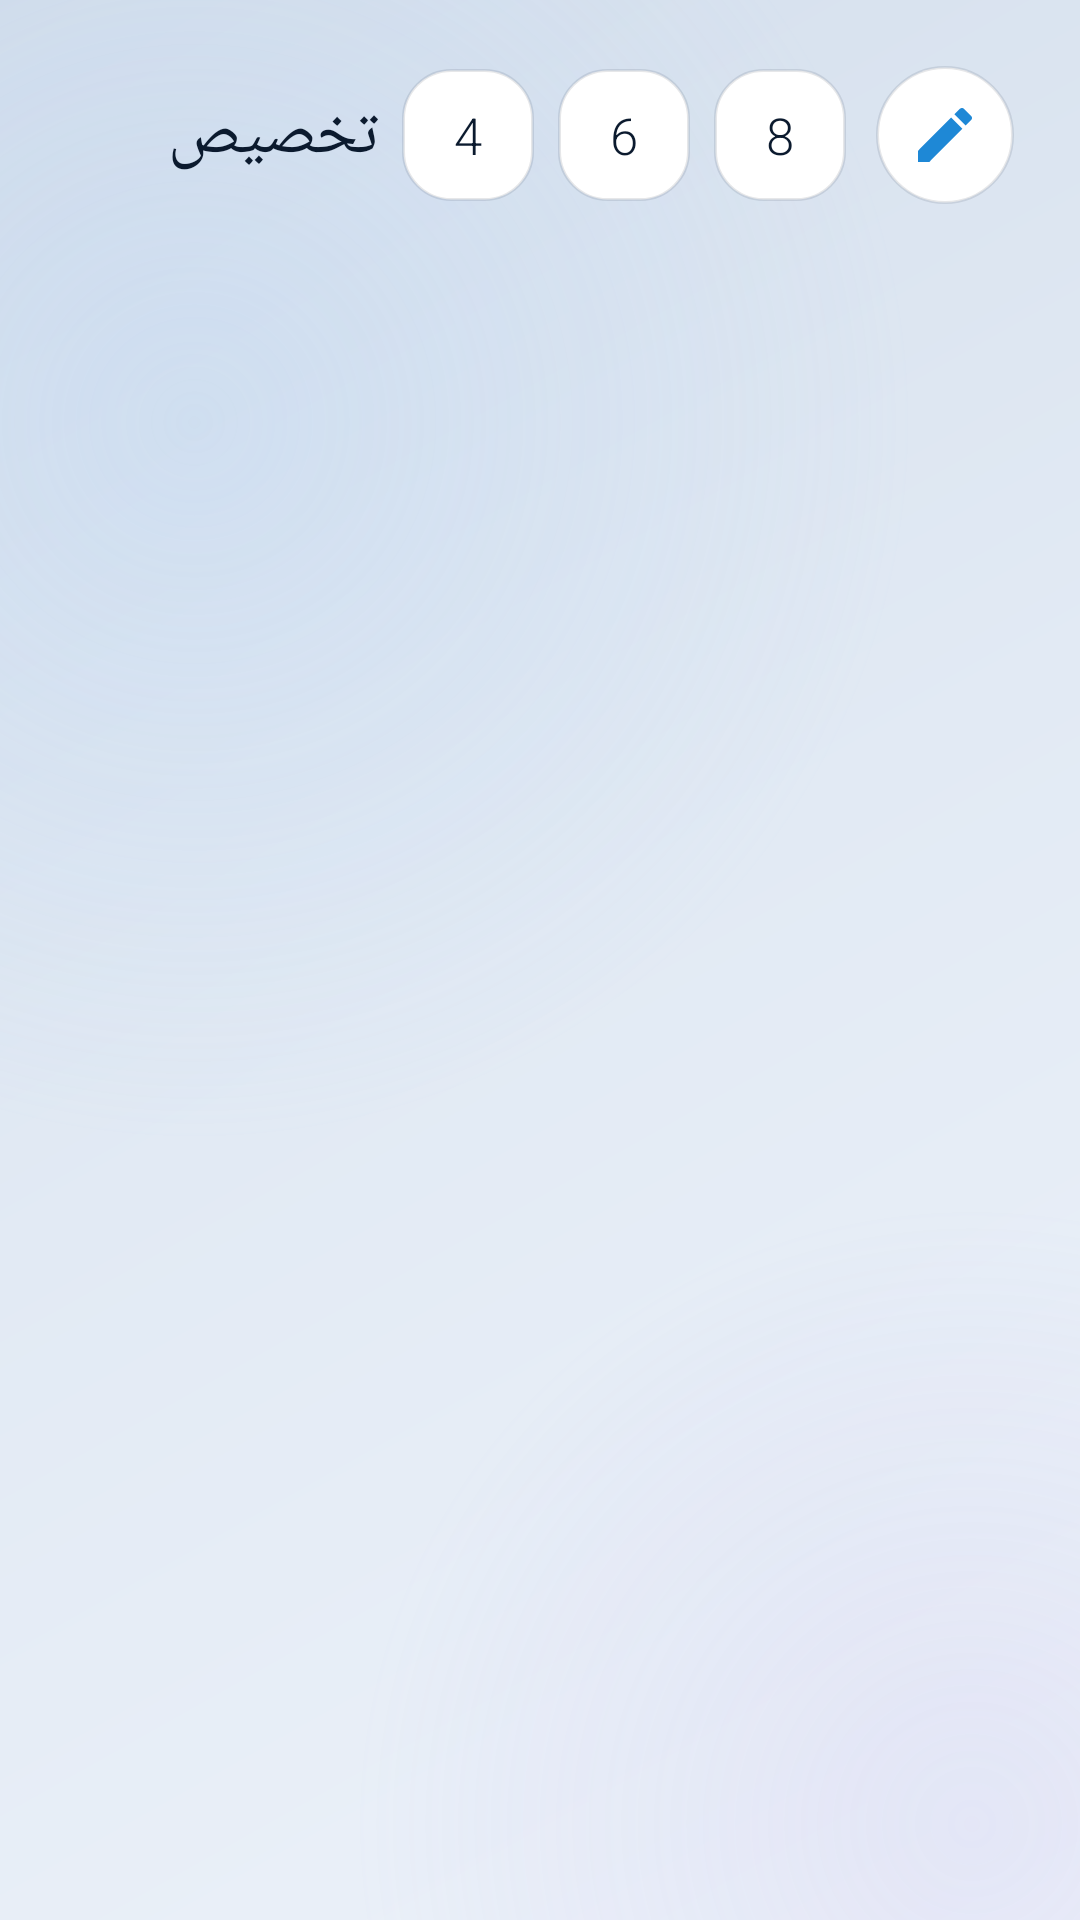

Named icons in this screenshot (1080*1920) and their centers, (x,y):
وضع التعديل: (945,135)
